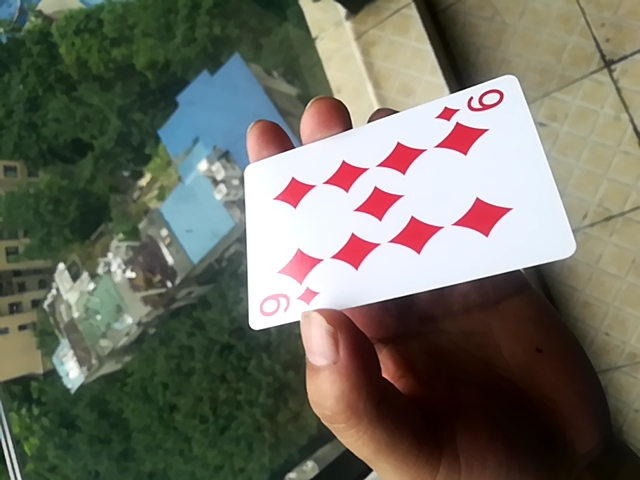fk 9: (231, 76, 577, 342)
